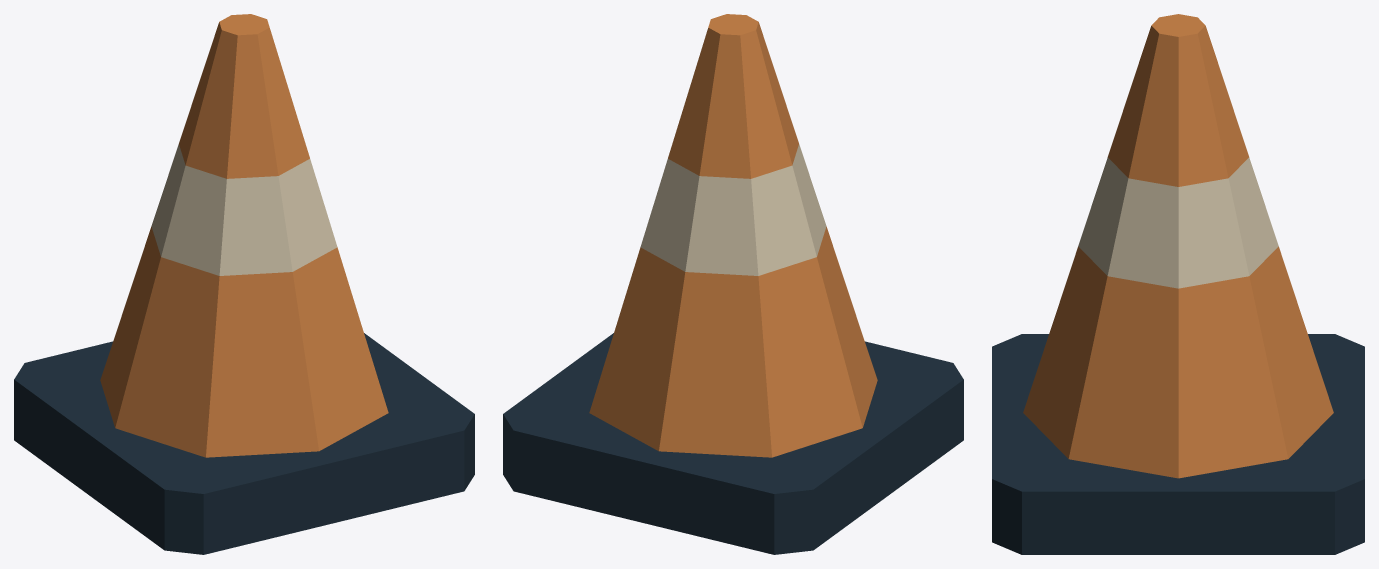
Rendered from cone-small.glb.
3 renders of one model, left to right at view 1: azimuth 30°, elevation 25°; view 2: azimuth 150°, elevation 25°; view 3: azimuth 270°, elevation 25°, orthographic. The views are drawn at different scales.
Visible parts, largest first — view 1: asset_root; view 2: asset_root; view 3: asset_root.
Part boxes in pixels (x1,y1,x2,y2): asset_root: (14, 14, 474, 554); asset_root: (503, 14, 963, 554); asset_root: (992, 14, 1364, 554).
Size of the model in its own units: 0.48 by 0.64 by 0.48.
